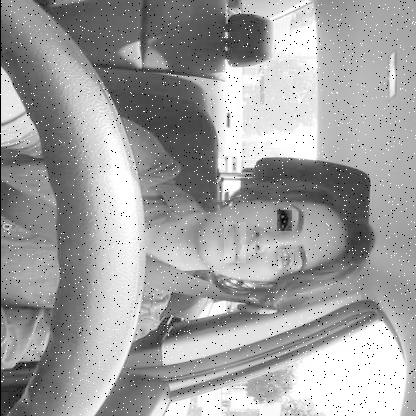seatbelt: (1, 178, 382, 301)
